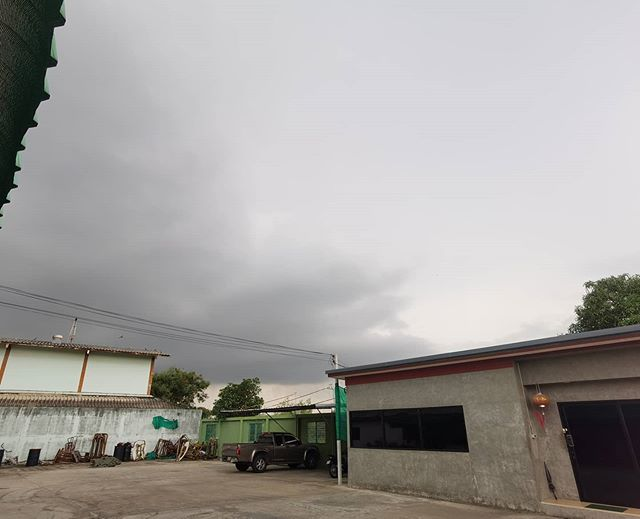building: (349, 336, 640, 519), (1, 338, 203, 452)
car: (219, 425, 319, 470)
sky: (17, 1, 622, 315)
tree: (577, 269, 640, 332), (212, 377, 262, 422), (155, 359, 205, 404)
